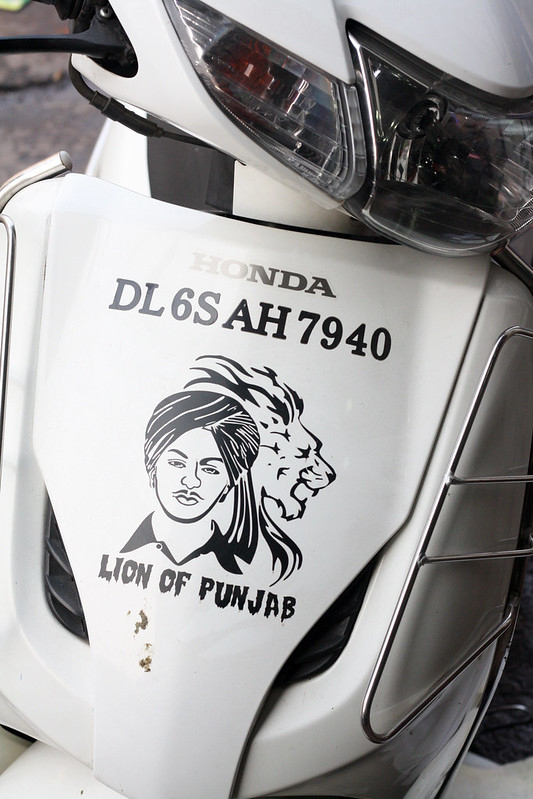number_plate: (97, 234, 415, 363)
